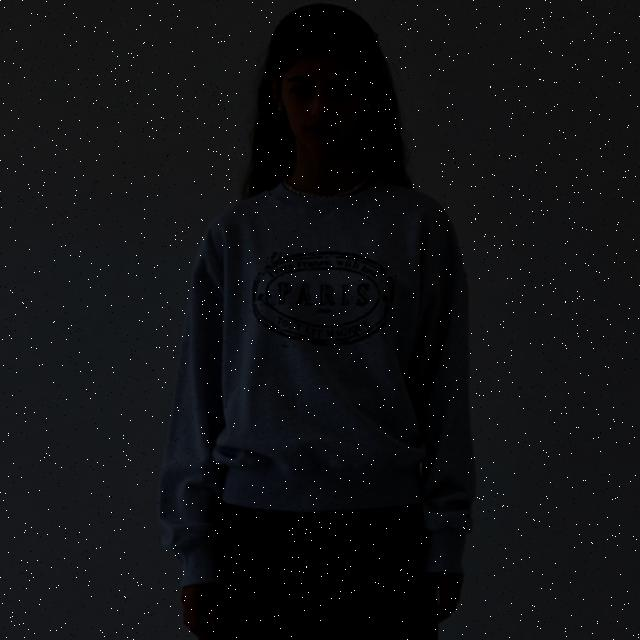Blouse_deep: (162, 168, 476, 597)
